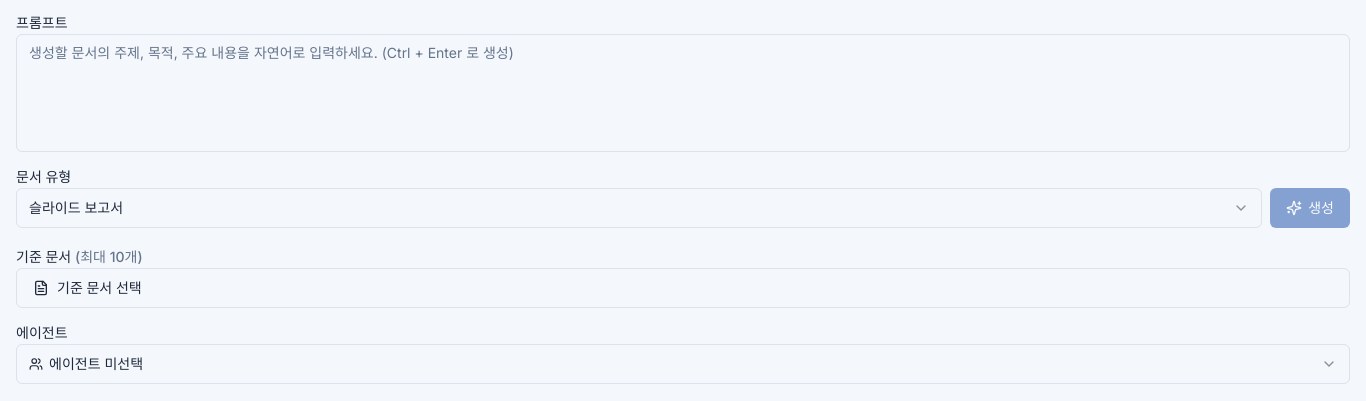
Test: PromptBox — 제출 가능 여부 › 프롬프트 입력 후 버튼이 enabled 된다
The width and height of the screenshot is (1366, 401).
Type "분기 매출 리포트 생성" into the text box with test id "prompt-textarea". click: {"x": 683, "y": 93}
box: [16,34,1350,152]
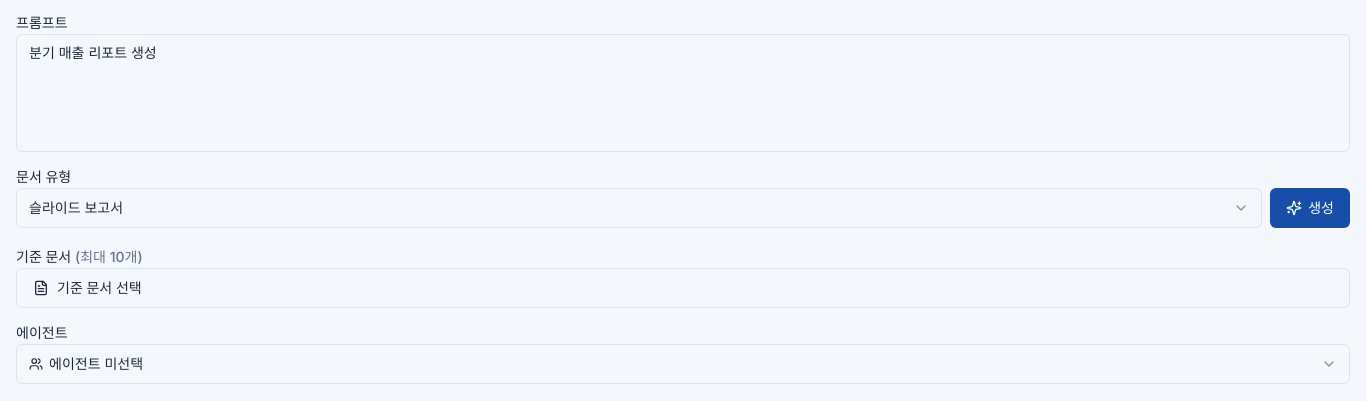
Expected: the button with test id "prompt-submit" is enabled, [1270,188,1350,228]
